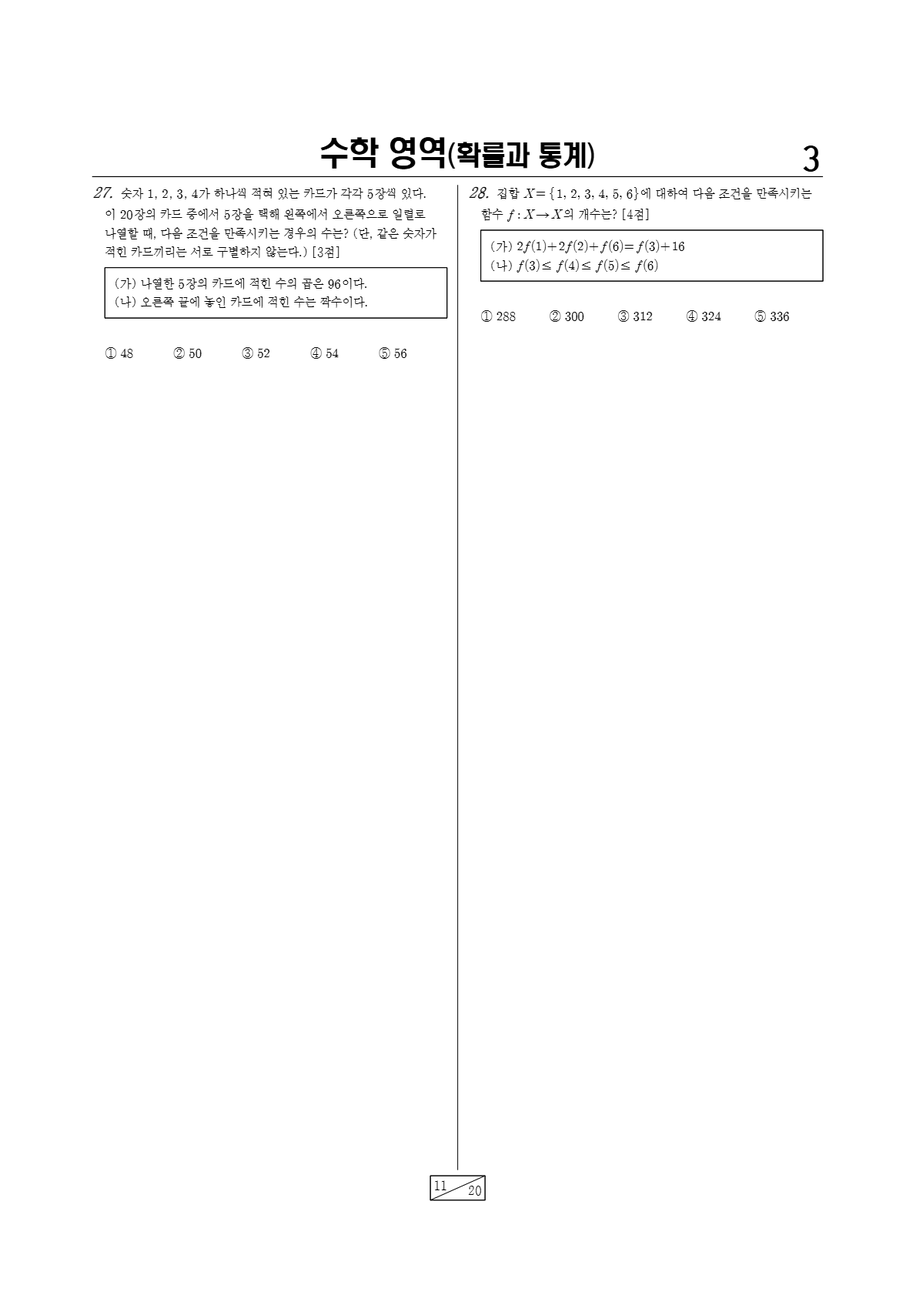opt_1: (103, 344, 119, 359), (480, 309, 492, 323)
opt_2: (172, 346, 185, 359), (549, 310, 560, 322)
opt_3: (617, 309, 629, 322), (242, 346, 253, 359)
opt_4: (310, 346, 322, 360), (686, 308, 697, 323)
opt_5: (378, 346, 390, 359), (754, 310, 766, 322)
